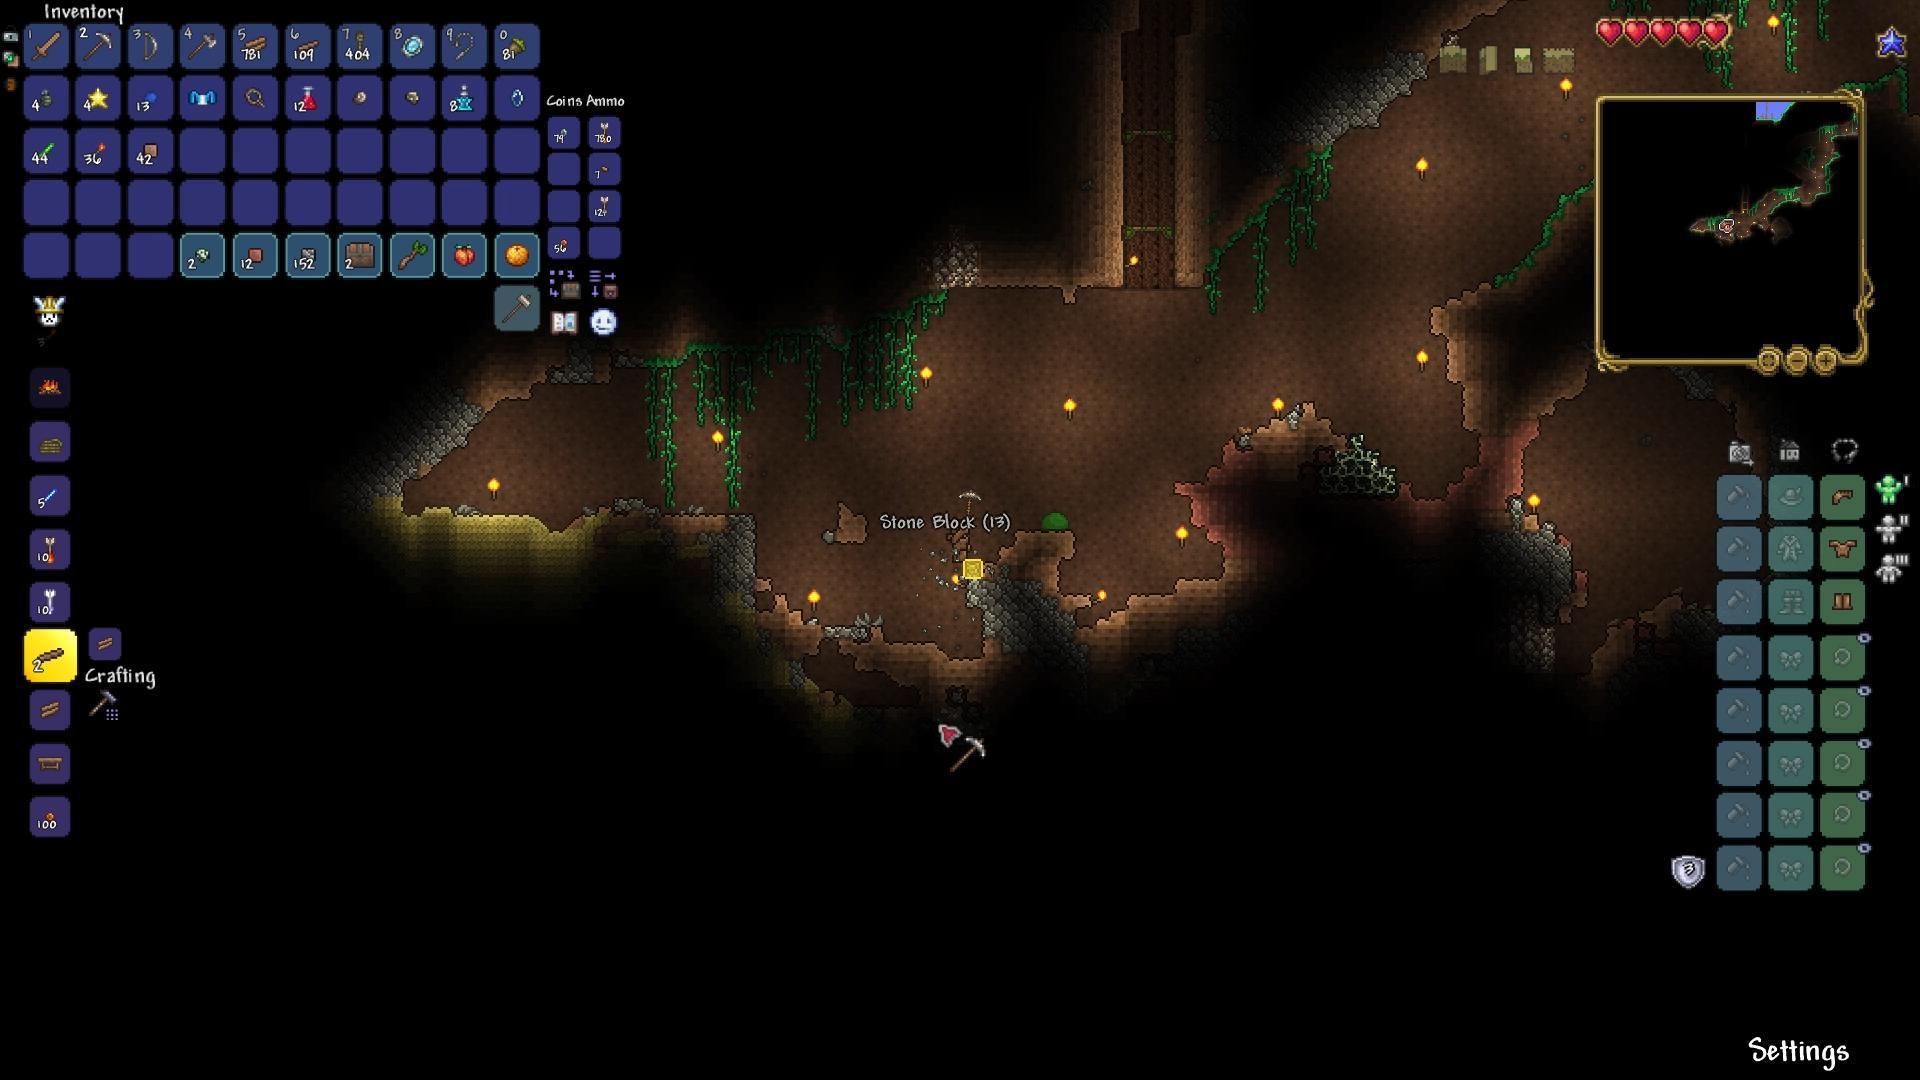chest: (343, 241, 381, 270)
potion: (298, 80, 323, 113)
recallP: (452, 80, 476, 115)
slime: (1038, 506, 1072, 534)
